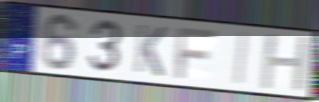3: (87, 18, 123, 74)
6: (40, 12, 79, 72)
F: (174, 26, 218, 81)
H: (258, 33, 312, 93)
I: (232, 30, 251, 88)
K: (132, 21, 169, 79)
